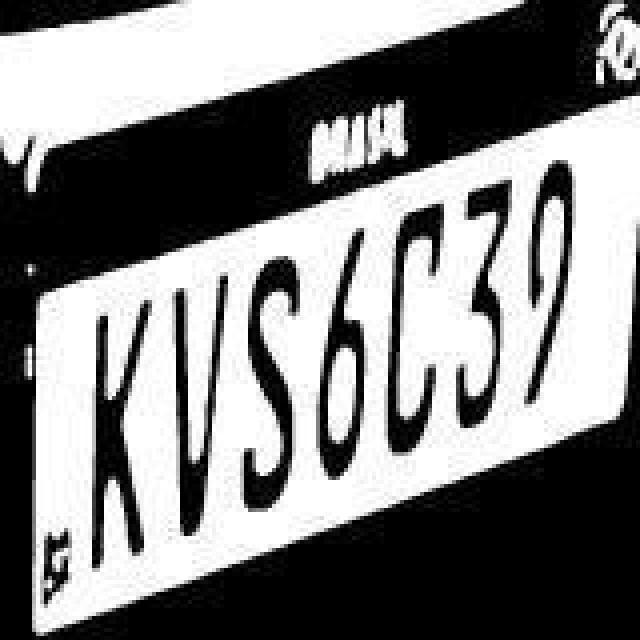3: (458, 156, 518, 428)
6: (316, 220, 372, 492)
9: (522, 136, 582, 408)
C: (390, 174, 450, 450)
K: (86, 280, 154, 576)
S: (232, 246, 304, 522)
V: (160, 260, 232, 540)
